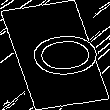O_E: (9, 28, 101, 82)
